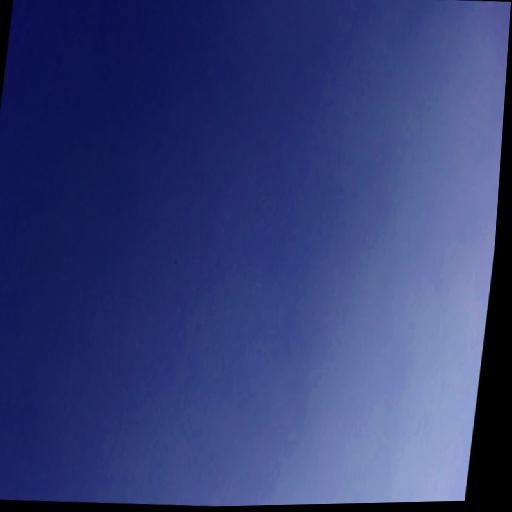drones: (174, 259, 178, 267)
